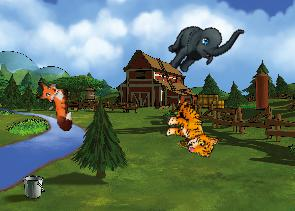elephant: (160, 1, 245, 90)
fox: (34, 78, 74, 133)
tiger: (159, 97, 227, 161)
